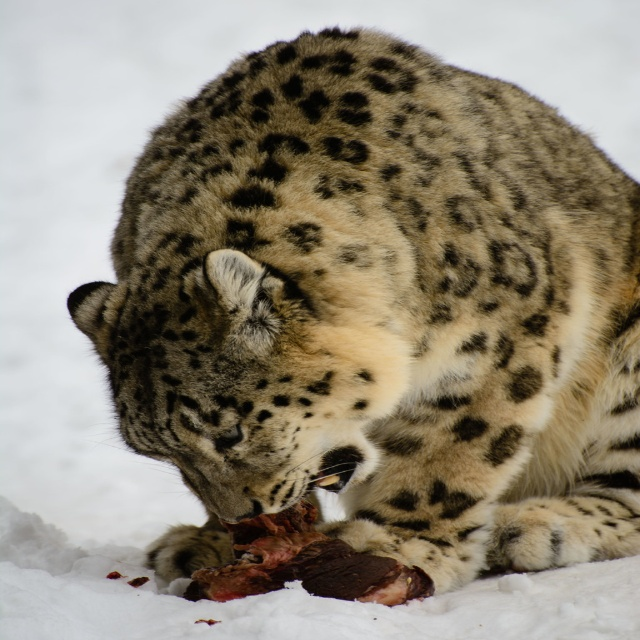Jaguar: (62, 22, 639, 608)
